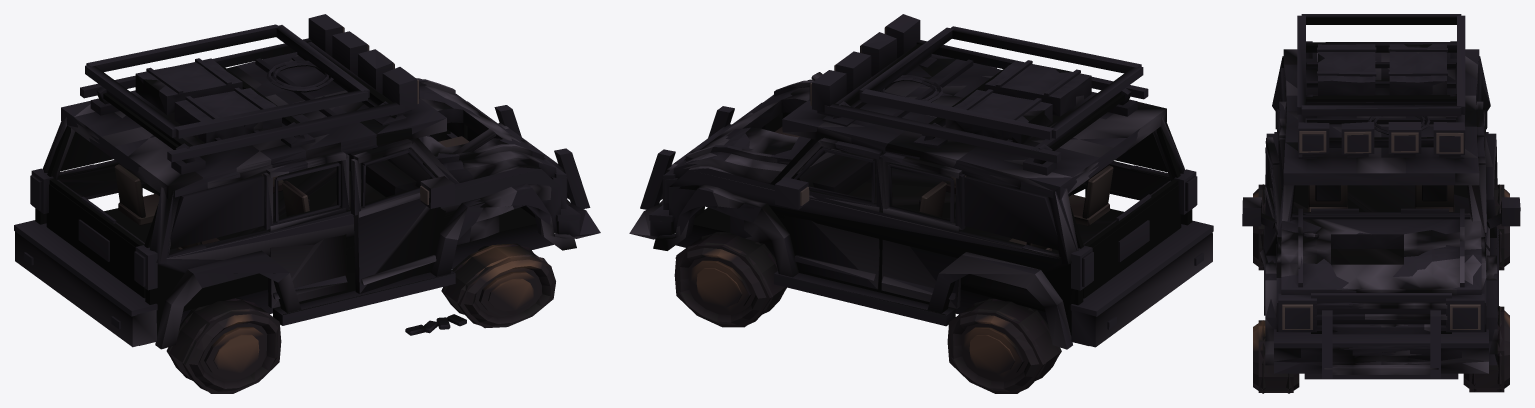
Rendered from veh.suv-dark.burned.glb.
The picture shows the model from 3 angles, left to right: view 1: azimuth 30°, elevation 25°; view 2: azimuth 150°, elevation 25°; view 3: azimuth 270°, elevation 25°; orthographic projection. The views are drawn at different scales.
Parts seen in each view (by area): view 1: body, wheelRL, wheelFL; view 2: body, wheelRR, wheelFR; view 3: body, wheelFR, wheelFL, wheelRR, wheelRL.
Part boxes in pixels (bbox=[...]): body: bbox=[14, 14, 600, 349]; wheelRL: bbox=[166, 298, 281, 393]; wheelFL: bbox=[441, 243, 555, 328]; body: bbox=[629, 14, 1213, 349]; wheelRR: bbox=[947, 298, 1061, 393]; wheelFR: bbox=[674, 232, 786, 327]; body: bbox=[1242, 14, 1520, 379]; wheelFR: bbox=[1463, 306, 1509, 392]; wheelFL: bbox=[1253, 320, 1299, 393]; wheelRR: bbox=[1494, 184, 1509, 270]; wheelRL: bbox=[1253, 184, 1265, 270].
Size of the model in its own units: 5 by 2.52 by 2.72.
